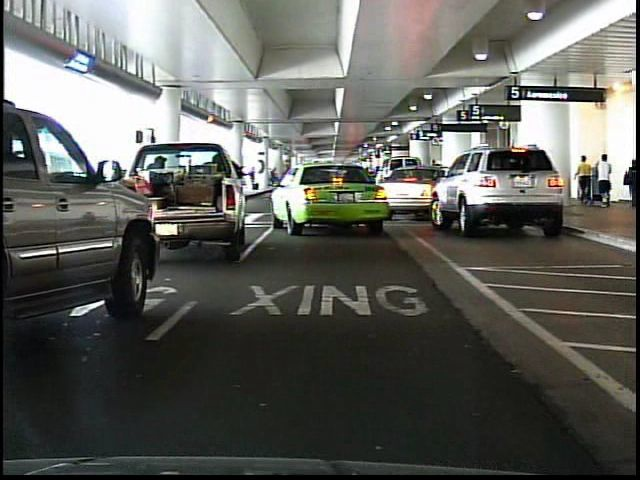person: (597, 152, 615, 208), (577, 154, 594, 207), (619, 159, 636, 210)
